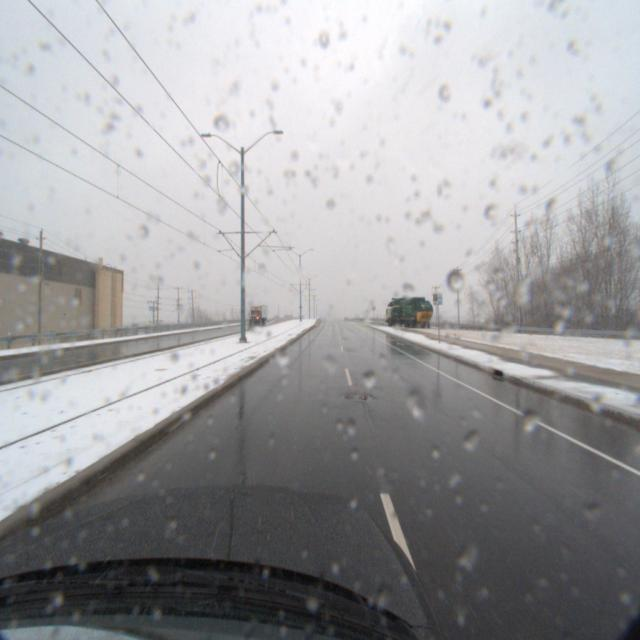Truck: (379, 302, 431, 332), (244, 307, 264, 325)
